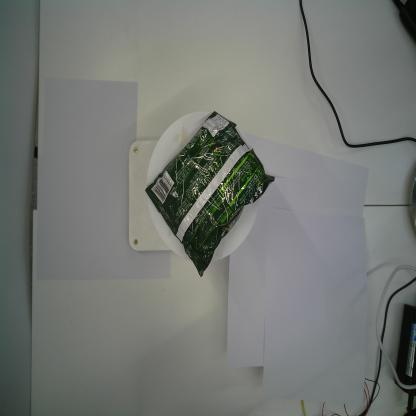Instant Noodles: (142, 106, 277, 280)
